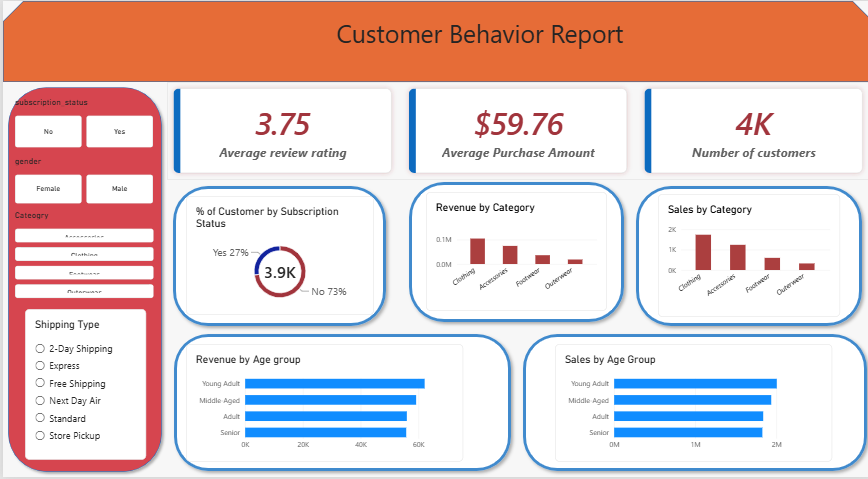

This screenshot's page, from the dashboard's own definition file:
{"tool":"powerbi","page":{"name":"Page 1","canvas":[1500,820],"ordinal":0},"visuals":[{"type":"cardVisual","fields":{"Data":["public customer.Average review rating","public customer.Average Purchase Amount","public customer.Number of customers"]},"box":[282.8,139.7,1210.3,169],"z":0},{"type":"shape","box":[0,0,1500,139.7],"z":1000},{"type":"shape","box":[282.8,308.6,387.9,262.1],"z":2000},{"type":"donutChart","title":"% of Customer by Subscription Status","fields":{"Category":["public customer.subscription_status"],"Y":["CountNonNull(public customer.customer_id)"]},"box":[315.5,336.2,324.1,205.2],"z":3000},{"type":"shape","box":[689.7,301.7,391.4,262.1],"z":4000},{"type":"textbox","box":[408.6,25.9,827.5,89.5],"z":5000},{"type":"shape","box":[1081,308.6,410.3,262.1],"z":6000},{"type":"clusteredColumnChart","title":"Revenue by Category","fields":{"Category":["public customer.category"],"Y":["Sum(public customer.purchase_amount)"]},"box":[729.3,329.3,312.1,205.2],"z":7000},{"type":"clusteredColumnChart","title":"Sales by Category","fields":{"Category":["public customer.category"],"Y":["CountNonNull(public customer.customer_id)"]},"box":[1129.3,332.8,313.8,212.1],"z":8000},{"type":"shape","box":[0,139.7,282.8,681],"z":9000},{"type":"advancedSlicerVisual","fields":{"Values":["public customer.subscription_status"]},"box":[20.7,165.5,239.7,87.9],"z":10000},{"type":"advancedSlicerVisual","fields":{"Values":["public customer.gender"]},"box":[20.7,267.2,239.7,82.8],"z":10001},{"type":"advancedSlicerVisual","title":"Cateogry","fields":{"Values":["public customer.category"]},"box":[20.7,360.3,239.7,153.4],"z":10002},{"type":"listSlicer","title":"Shipping Type","fields":{"Values":["public customer.shipping_type"]},"box":[37.9,531,208.6,260.3],"z":10003},{"type":"shape","box":[284.5,563.8,601.7,256.9],"z":10005},{"type":"clusteredBarChart","title":"Revenue by Age group","fields":{"Category":["public customer.age_group"],"Y":["Sum(public customer.purchase_amount)"]},"box":[315.5,591.4,477.6,203.4],"z":10006},{"type":"shape","box":[886.2,563.8,613.8,256.9],"z":10007},{"type":"clusteredBarChart","title":"Sales by Age Group","fields":{"Category":["public customer.age_group"],"Y":["Sum(public customer.customer_id)"]},"box":[951.7,591.4,477.6,203.4],"z":10008}]}

Visuals, with their boxes in screenshot pixels (x1, y1, x2, y2), scaled from the page's 1500x820 canvas onto the 868x479 screenshot:
cardVisual - public customer.Average review rating x public customer.Average Purchase Amount: x1=164 y1=82 x2=864 y2=180
shape: x1=0 y1=0 x2=867 y2=82
shape: x1=164 y1=180 x2=388 y2=333
"% of Customer by Subscription Status" donutChart: x1=183 y1=196 x2=370 y2=316
shape: x1=399 y1=176 x2=626 y2=329
textbox: x1=236 y1=15 x2=715 y2=67
shape: x1=626 y1=180 x2=863 y2=333
"Revenue by Category" clusteredColumnChart: x1=422 y1=192 x2=603 y2=312
"Sales by Category" clusteredColumnChart: x1=653 y1=194 x2=835 y2=318
shape: x1=0 y1=82 x2=164 y2=478
advancedSlicerVisual - public customer.subscription_status: x1=12 y1=97 x2=151 y2=148
advancedSlicerVisual - public customer.gender: x1=12 y1=156 x2=151 y2=204
"Cateogry" advancedSlicerVisual: x1=12 y1=210 x2=151 y2=300
"Shipping Type" listSlicer: x1=22 y1=310 x2=143 y2=462
shape: x1=165 y1=329 x2=513 y2=478
"Revenue by Age group" clusteredBarChart: x1=183 y1=345 x2=459 y2=464
shape: x1=513 y1=329 x2=867 y2=478
"Sales by Age Group" clusteredBarChart: x1=551 y1=345 x2=827 y2=464
